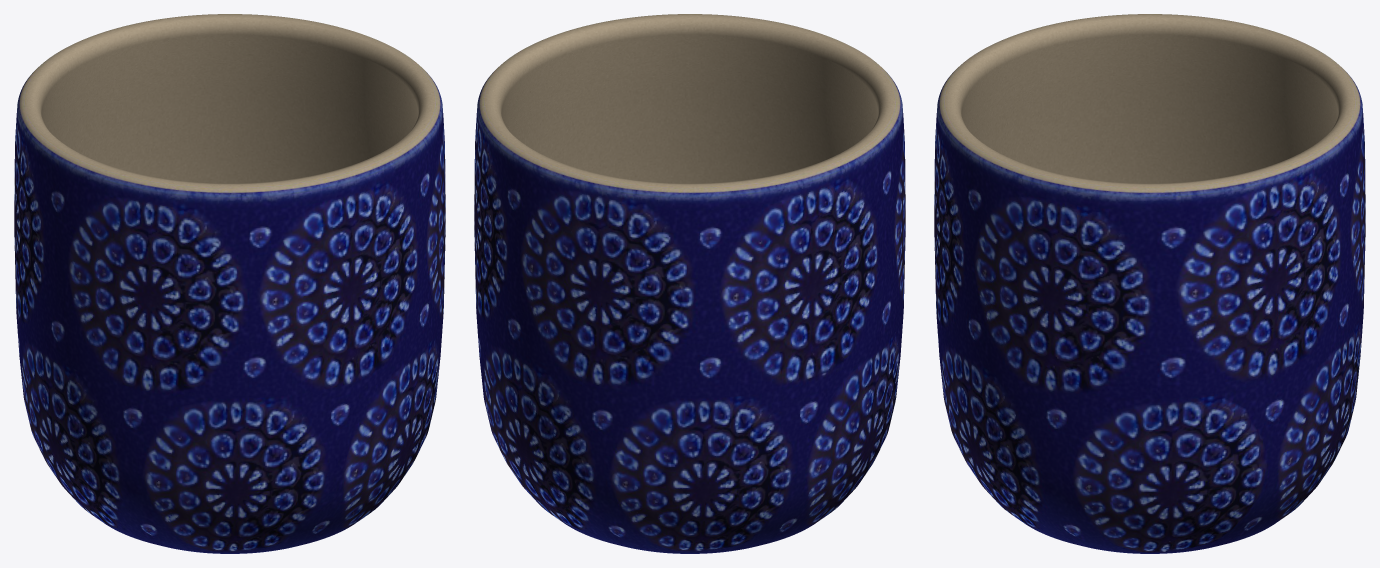
Rendered from planter_B075HX9T68.glb.
3 views of the same model, side by side, from view 1: azimuth 30°, elevation 25°; view 2: azimuth 150°, elevation 25°; view 3: azimuth 270°, elevation 25° (orthographic).
Parts seen in each view (by area): view 1: RootNode; view 2: RootNode; view 3: RootNode.
Boxes of the visible parts, x1,y1,x2,y2 form: RootNode: (14,14,445,553); RootNode: (474,14,905,553); RootNode: (934,14,1365,553).
Size of the model in its own units: 0.1092 by 0.1117 by 0.1092.
Materials: 1 (1 with a texture image).
